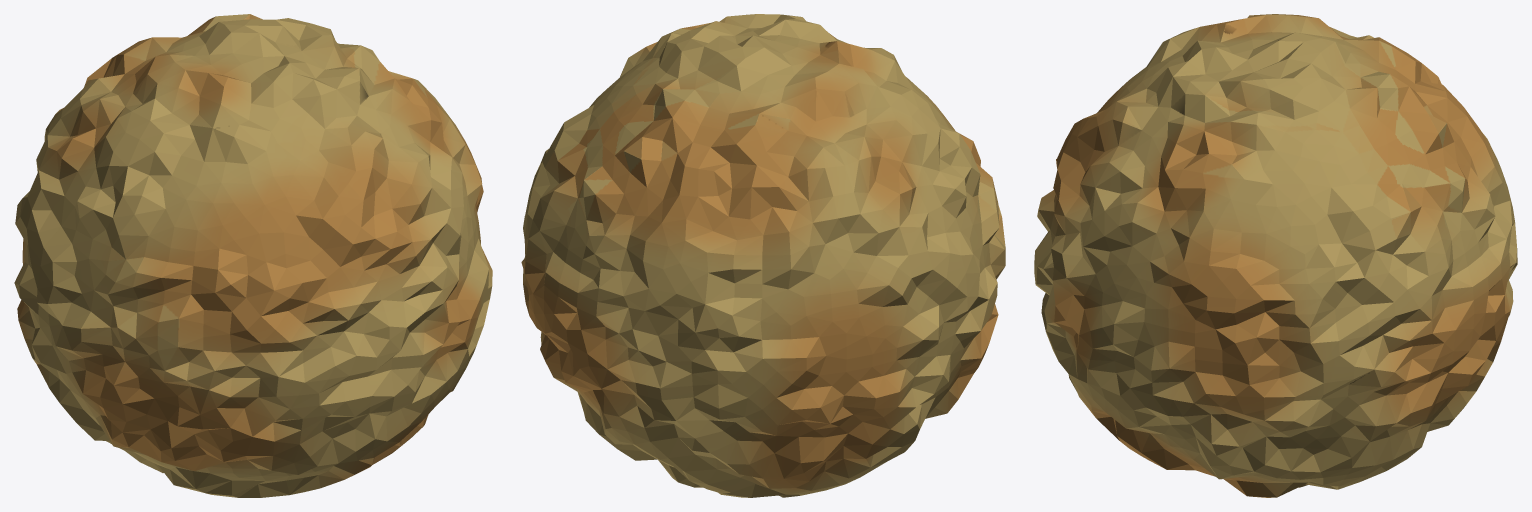
The model's file is venus.gltf.
3 views of the same model, side by side, from view 1: azimuth 30°, elevation 25°; view 2: azimuth 150°, elevation 25°; view 3: azimuth 270°, elevation 25° (orthographic).
Visible parts, largest first — view 1: Venus; view 2: Venus; view 3: Venus.
Part boxes in pixels (<box>): Venus: <box>14,14,492,497</box>; Venus: <box>521,14,1005,497</box>; Venus: <box>1034,14,1517,497</box>.
Bounding box in the file's own units: 2.13 × 2.13 × 2.13.
1 material, 1 textured.
